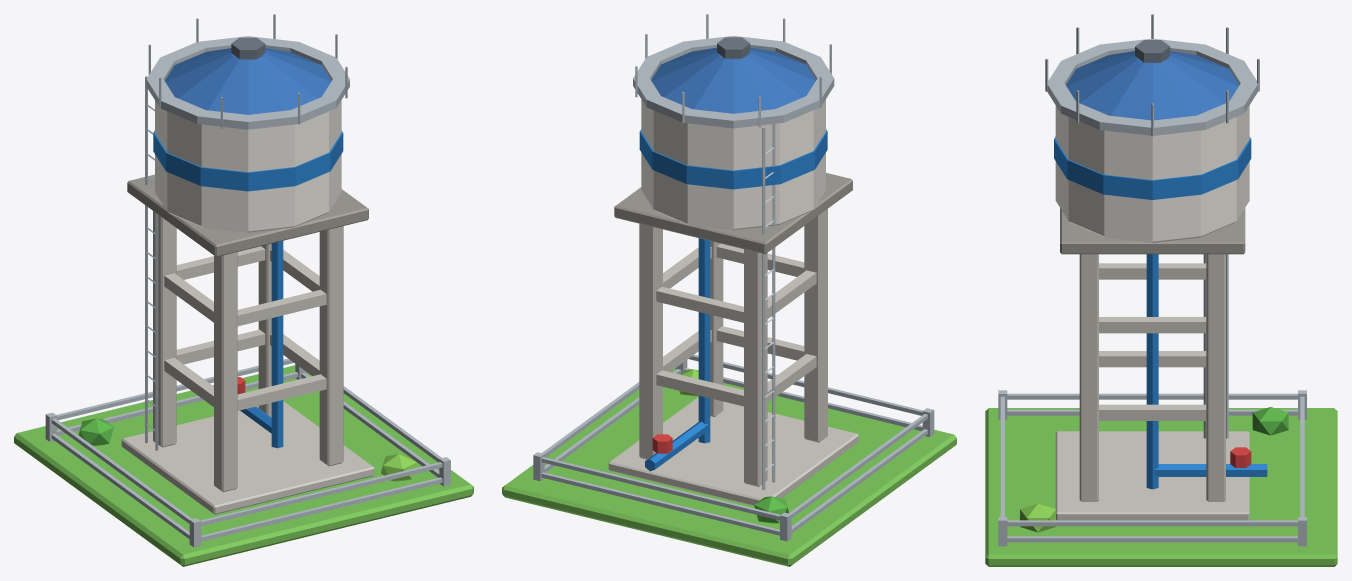
Rendered from caixa_dagua.glb.
3 renders of one model, left to right at view 1: azimuth 30°, elevation 25°; view 2: azimuth 150°, elevation 25°; view 3: azimuth 270°, elevation 25°, orthographic. The views are drawn at different scales.
Visible parts, largest first — view 1: corpo; view 2: corpo; view 3: corpo.
Part boxes in pixels (left/top/right/bottom): corpo: left=14, top=14, right=473, bottom=566; corpo: left=502, top=14, right=956, bottom=566; corpo: left=985, top=14, right=1337, bottom=566.
Bounding box in the file's own units: 2 × 2.8 × 2.
